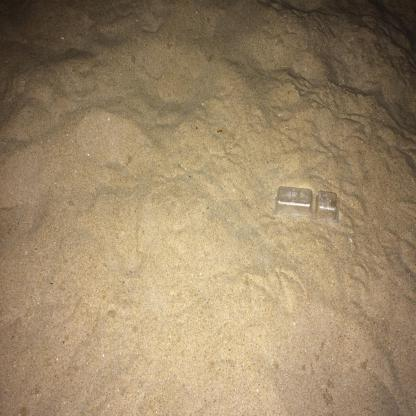plastic: (272, 186, 340, 223)
